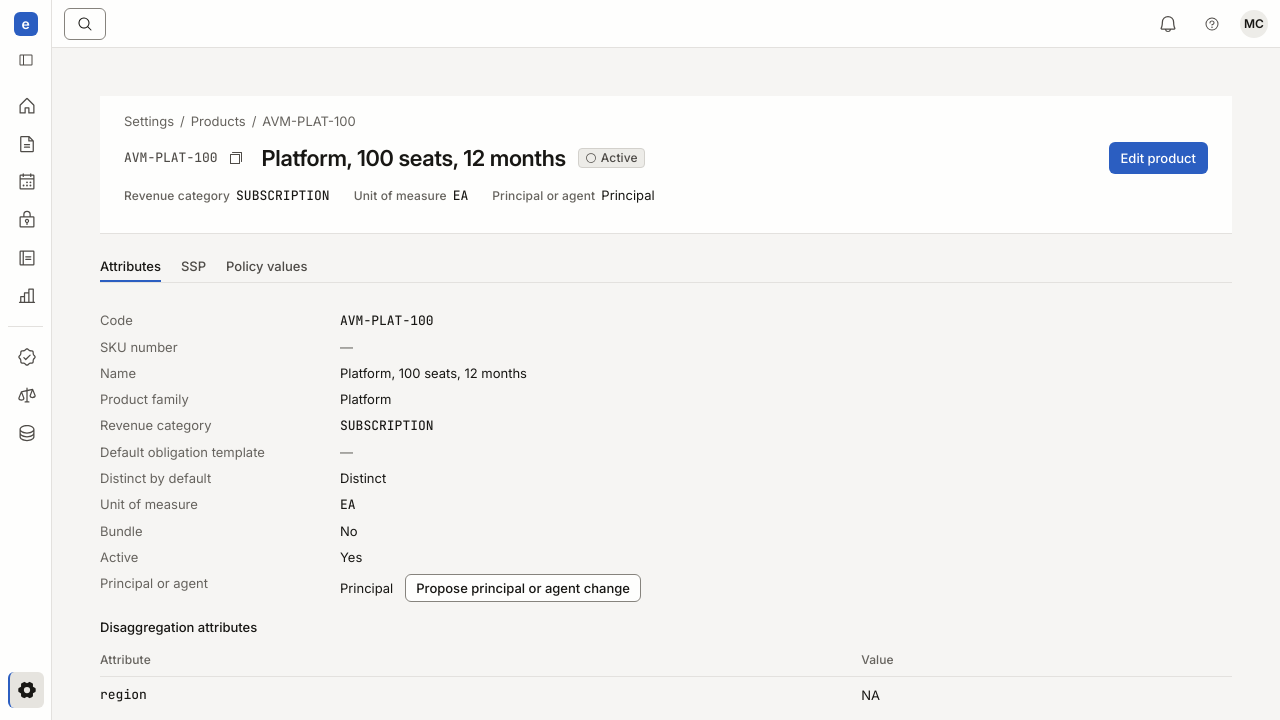
Test: SF-15:product › principal or agent proposal uses the approval command
Expected: the heading "Platform, 100 seats, 12 months" is shown, x1=262 y1=144 x2=566 y2=172
Click the button "Propose principal or agent change".
click(523, 588)  # box x1=405 y1=574 x2=641 y2=602
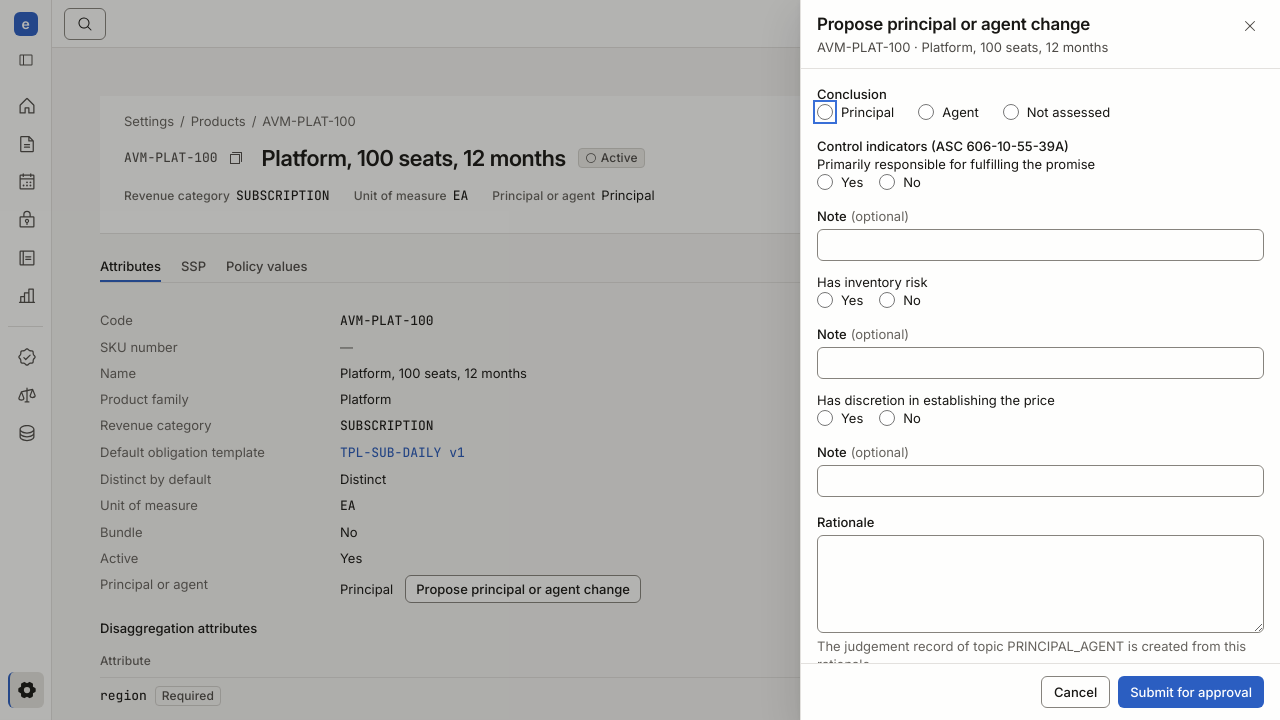
Click the button "Submit for approval".
click(1191, 692)  # box x1=1118 y1=676 x2=1264 y2=708
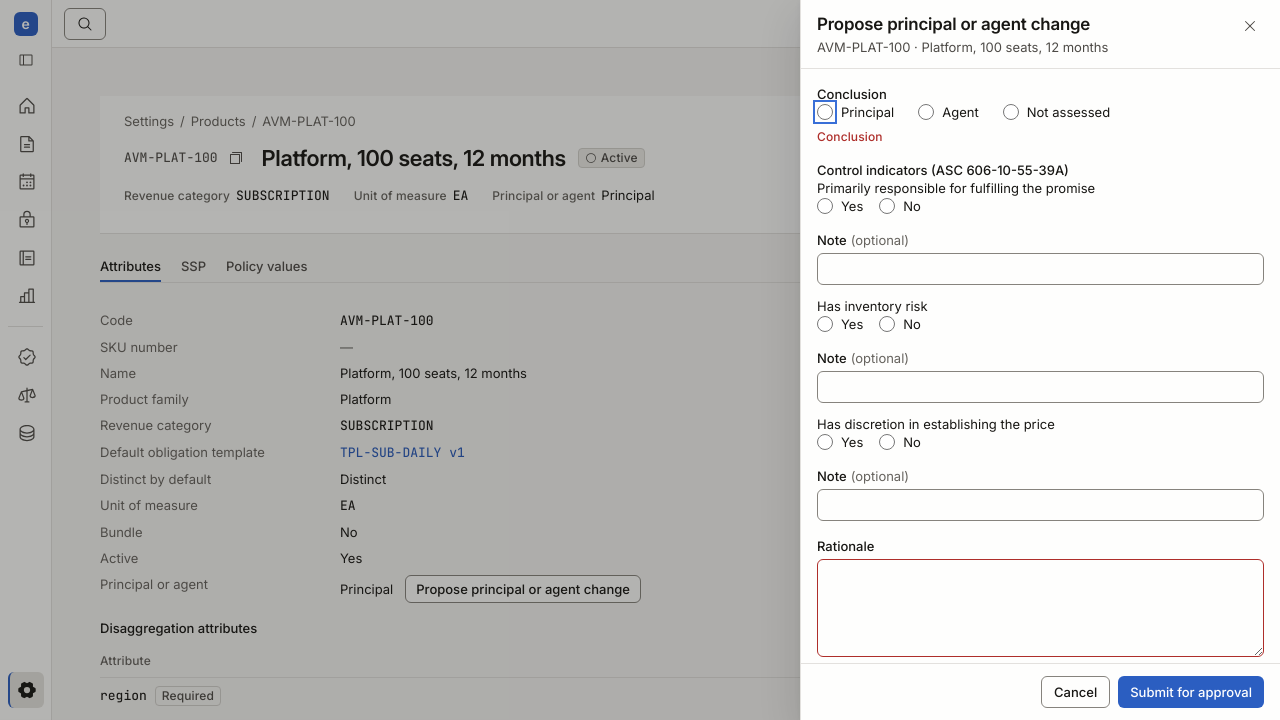
Click the radio button labelled "Agent".
click(926, 112)  # box x1=918 y1=104 x2=934 y2=120
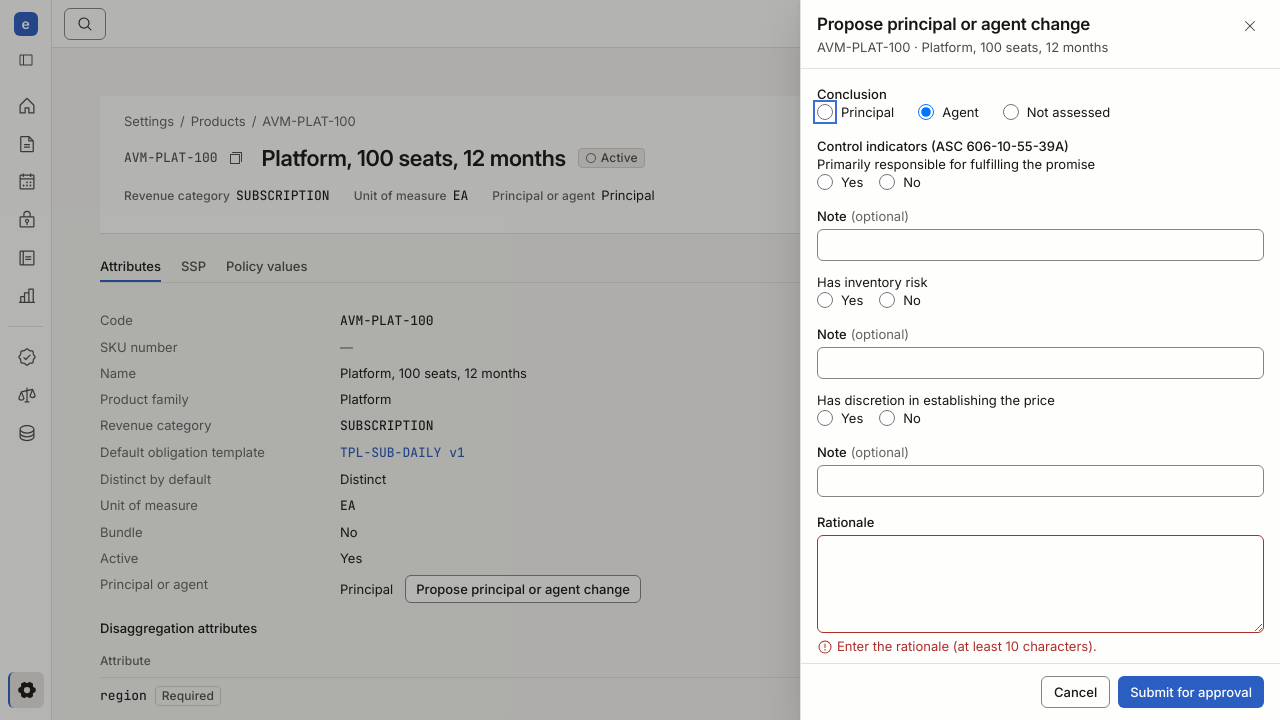
Click the radio button labelled "No" below "Has inventory risk".
click(887, 300)  # box x1=879 y1=292 x2=895 y2=308
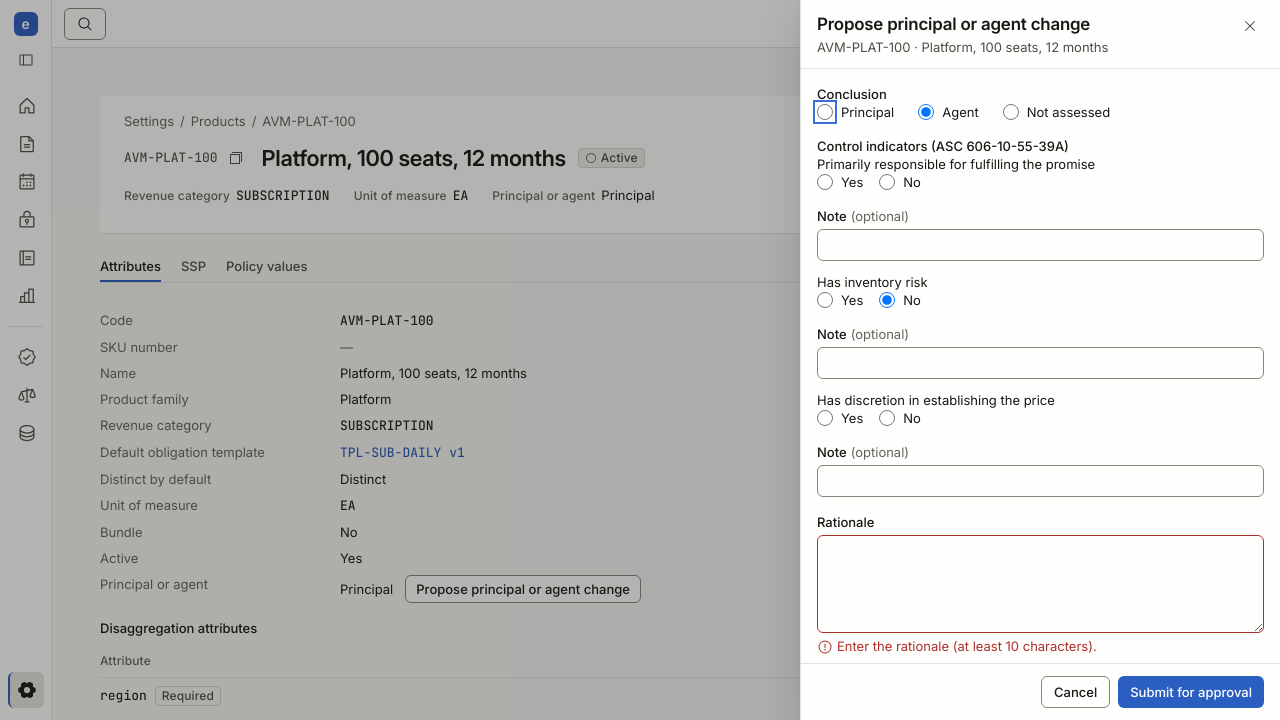
Type "Stock stays with the vendor." into the field labelled "Note(optional)" below "Has inventory risk".
click(1040, 363); type("Stock stays with the vendor.")  # box x1=817 y1=347 x2=1264 y2=379
Type "The vendor controls the goods before transfer." into the text box labelled "Rationale".
click(1040, 584); type("The vendor controls the goods before transfer.")  # box x1=817 y1=535 x2=1264 y2=633
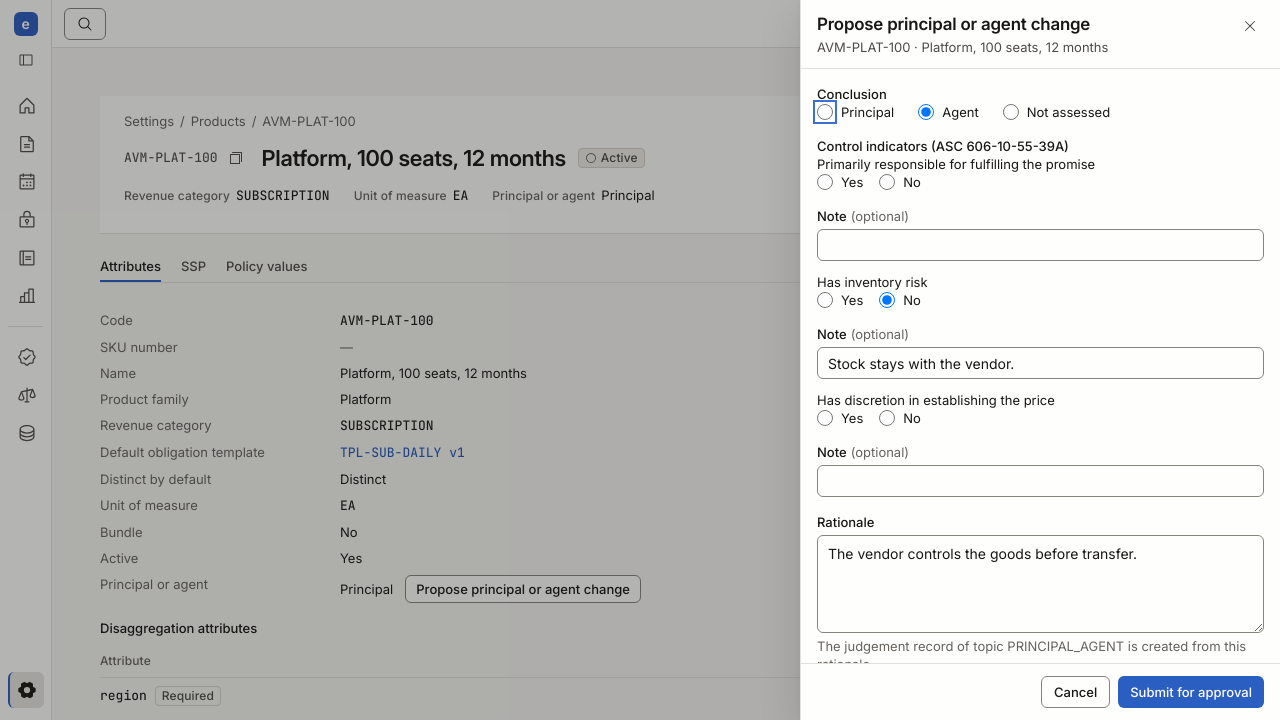
Click the button "Submit for approval".
click(1191, 692)  # box x1=1118 y1=676 x2=1264 y2=708
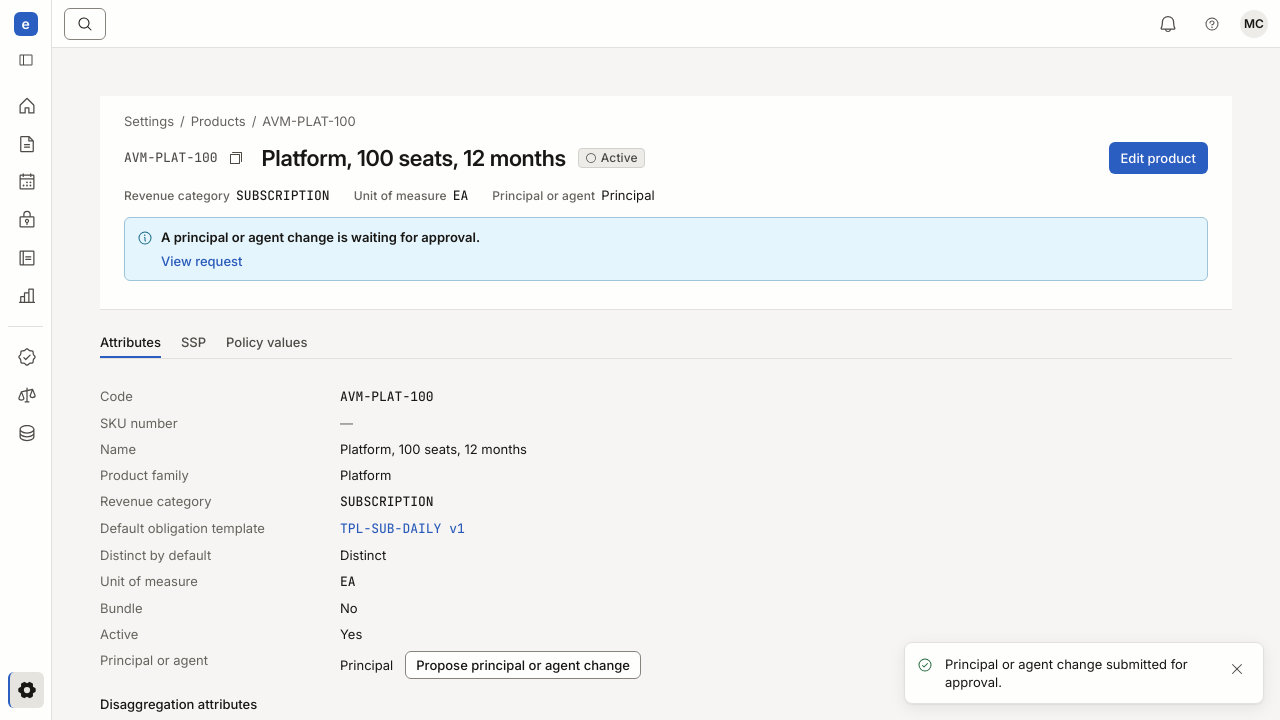
Now the text "Principal or agent change submitted for approval." is shown, box x1=945 y1=655 x2=1211 y2=691
Now the heading "A principal or agent change is waiting for approval." is shown, box x1=161 y1=229 x2=480 y2=245
